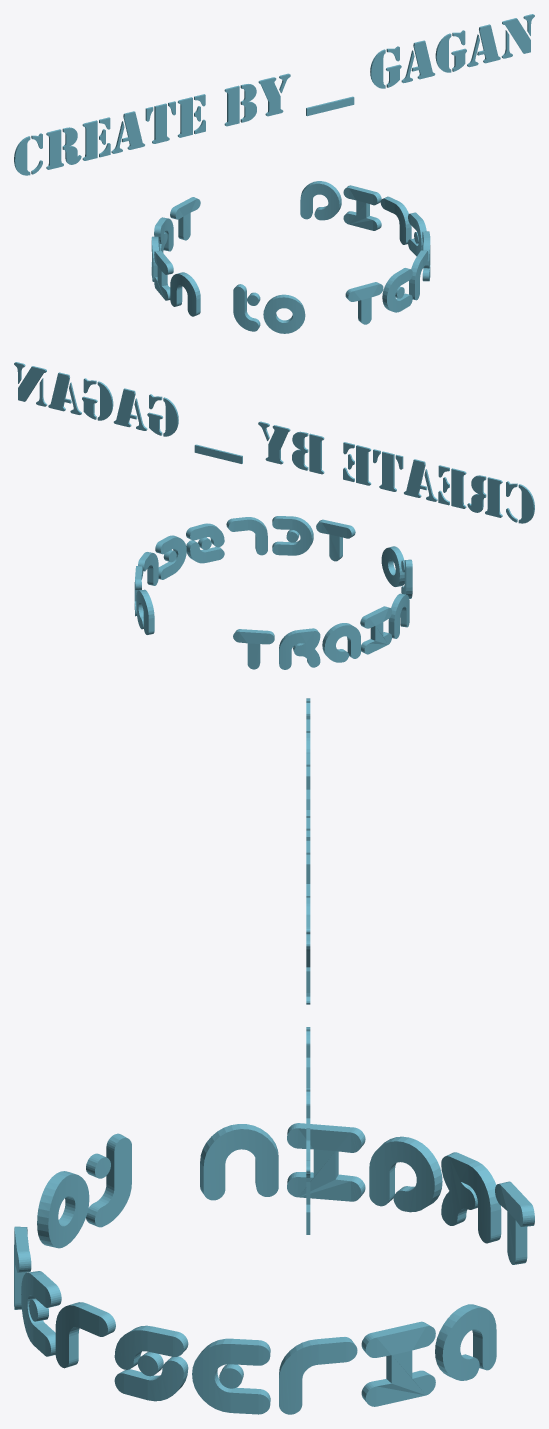
The model's file is tinker.obj.
3 renders of one model, top to bottom at view 1: azimuth 30°, elevation 25°; view 2: azimuth 150°, elevation 25°; view 3: azimuth 270°, elevation 25°, orthographic. The views are drawn at different scales.
Visible parts, largest first — view 1: obj_0; view 2: obj_0; view 3: obj_0.
Boxes of the visible parts, box(x1,y1,x2,y2) form: obj_0: box(14, 14, 534, 333); obj_0: box(14, 362, 534, 669); obj_0: box(14, 698, 534, 1414).
Size of the model in its own units: 276 by 98.64 by 126.
